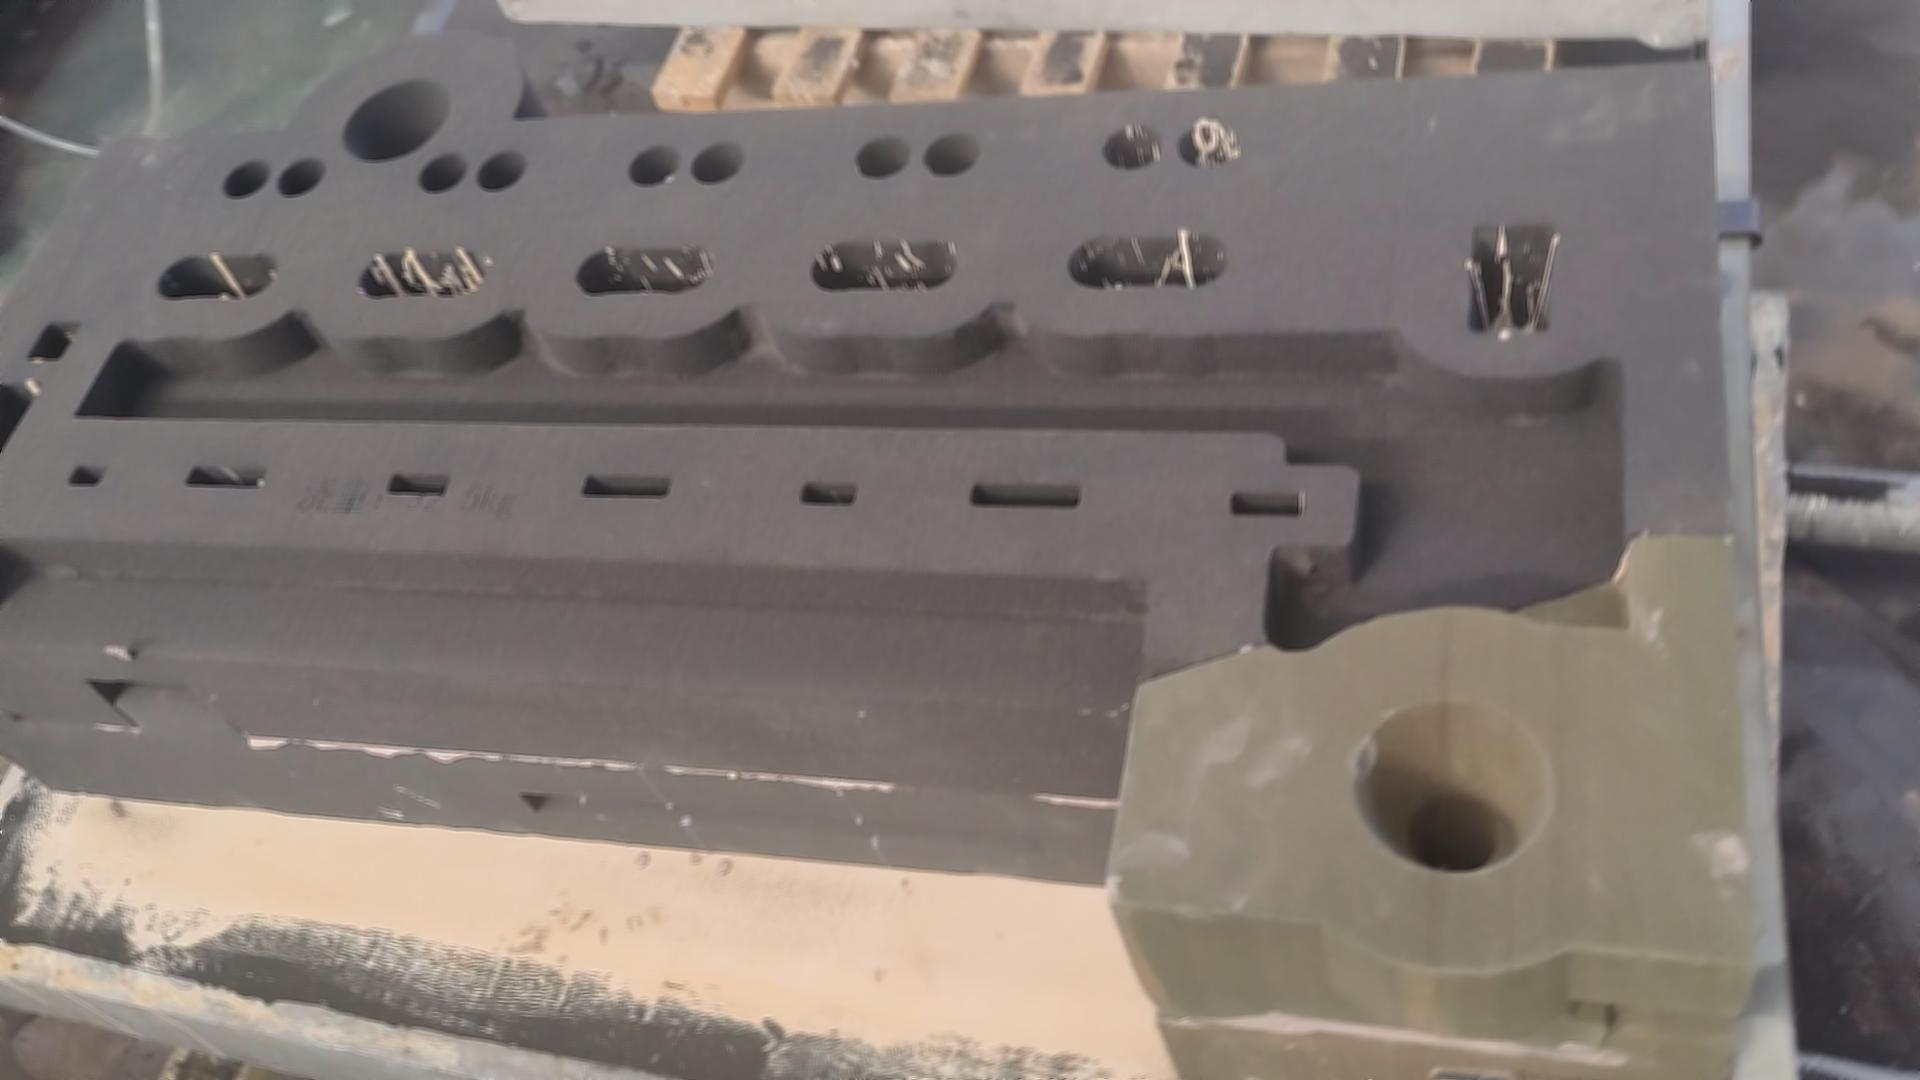pouring hole: (1353, 699, 1557, 876), (342, 76, 448, 164)
